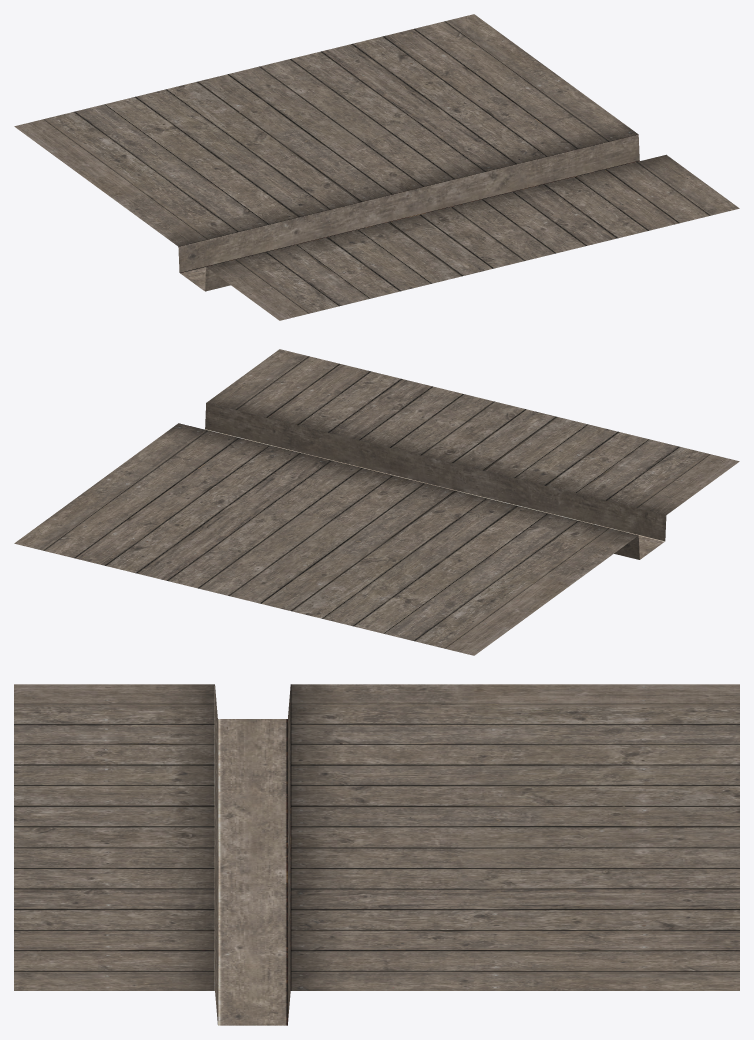
Rendered from celing.fbx.
The picture shows the model from 3 angles, top to bottom: view 1: azimuth 30°, elevation 25°; view 2: azimuth 150°, elevation 25°; view 3: azimuth 270°, elevation 25°; orthographic projection. The views are drawn at different scales.
Visible parts, largest first — view 1: celing; view 2: celing; view 3: celing.
Part boxes in pixels (box(x1,y1,x2,y2)): celing: box(14, 14, 739, 320); celing: box(14, 349, 739, 655); celing: box(14, 684, 739, 1025).
Bounding box in the file's own units: 200 × 10.52 × 200.
Materials: 1 (1 with a texture image).
